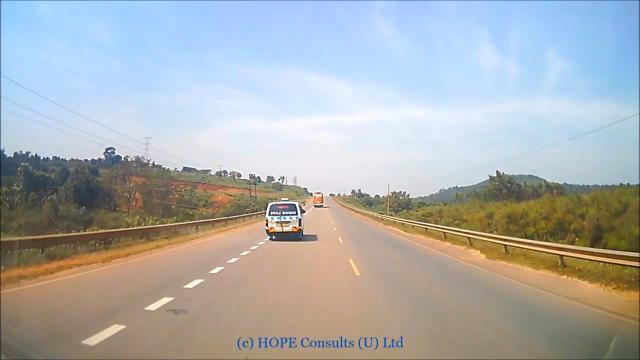bus: (312, 192, 324, 207)
van: (259, 196, 305, 240)
